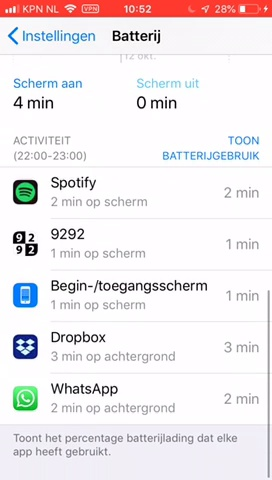activity: (8, 133, 93, 164)
app: (10, 174, 264, 211), (11, 225, 265, 262), (10, 274, 264, 311), (11, 327, 265, 364), (9, 380, 263, 417)
